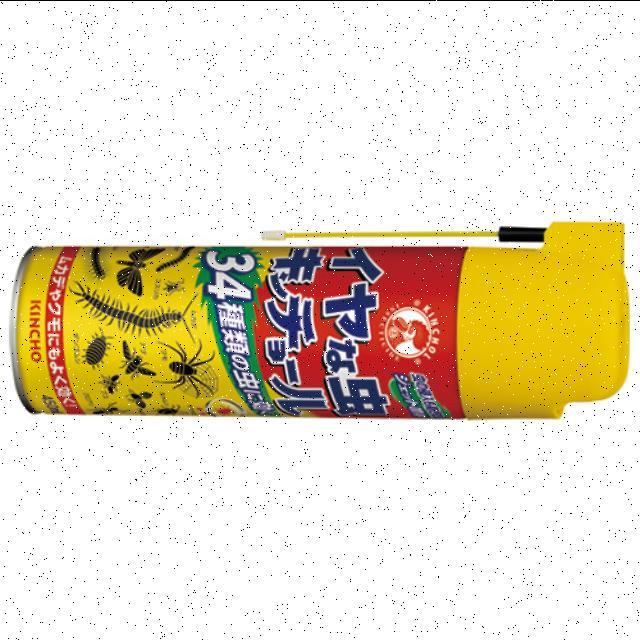chemical_spray_can: (1, 202, 636, 450)
